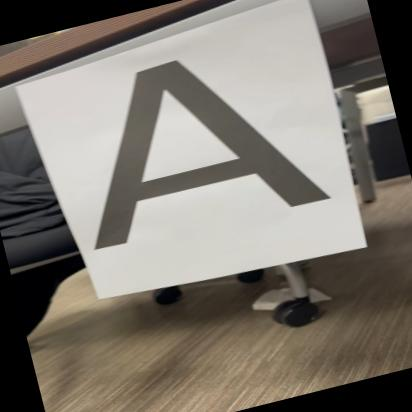seat: (54, 25, 330, 259)
